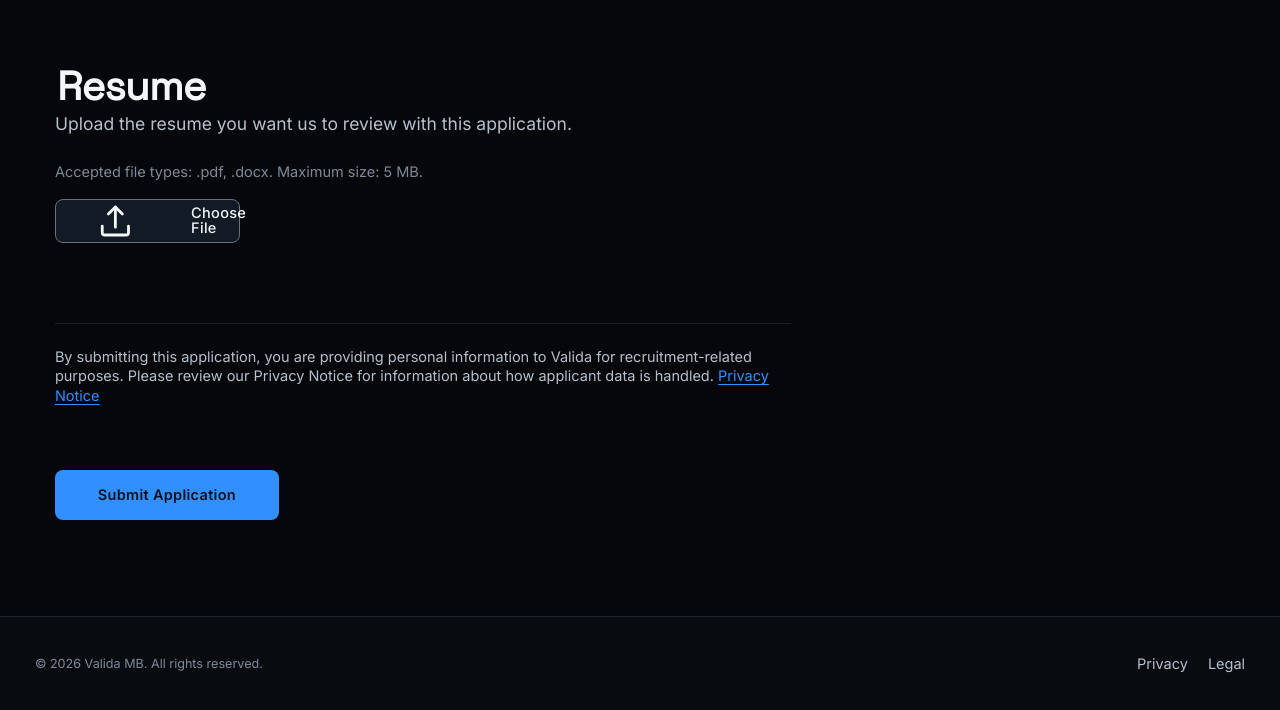
Apply — client validation › lists invalid fields in the summary as in-page links
(page scrolled)
Click the button "Submit Application".
click(167, 495)  # box [55,470,279,520]
(page scrolled)
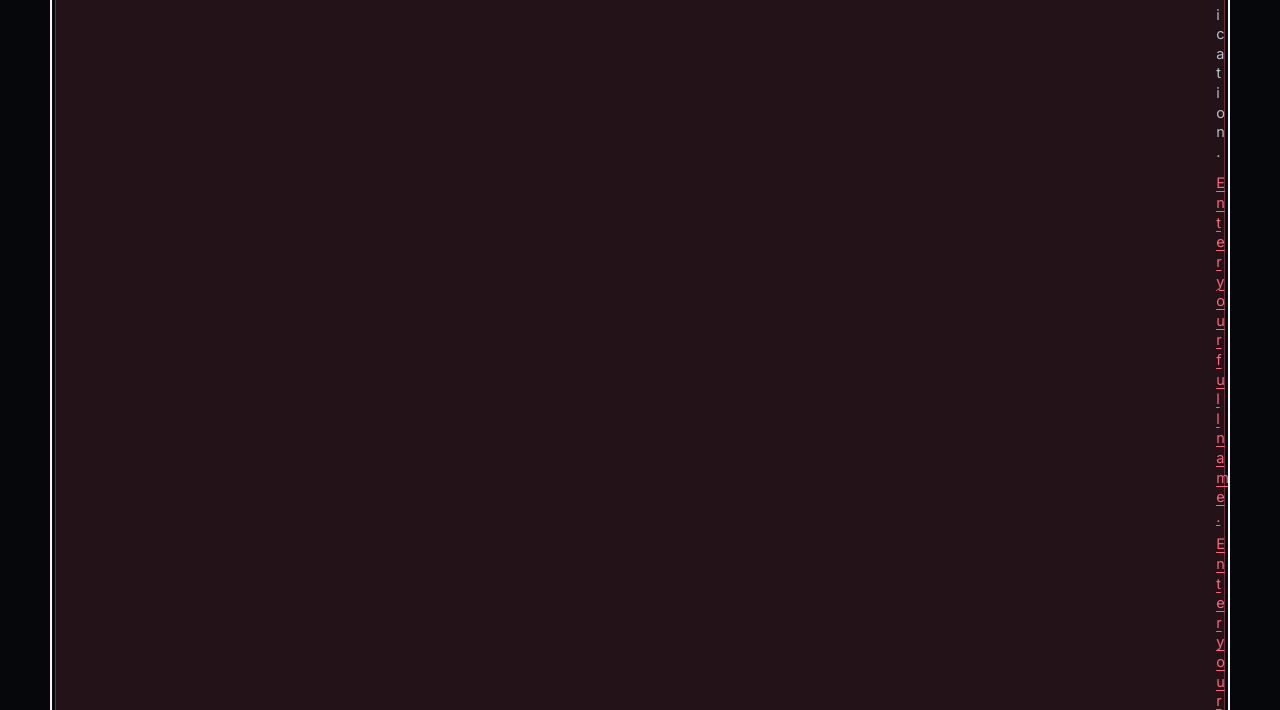
Result: the link "Enter your full name." is shown at [1216,174,1229,526]
